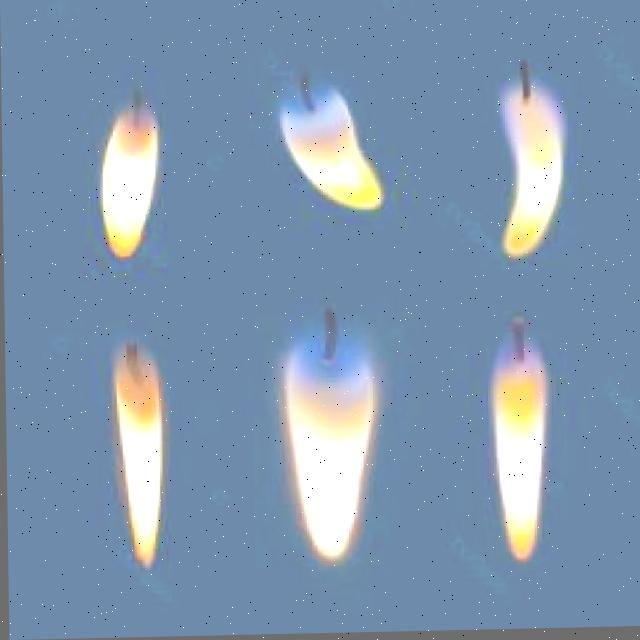Fire: (283, 335, 375, 562), (490, 337, 548, 563), (281, 85, 382, 213), (500, 85, 564, 258), (113, 344, 162, 567), (101, 111, 159, 258)
